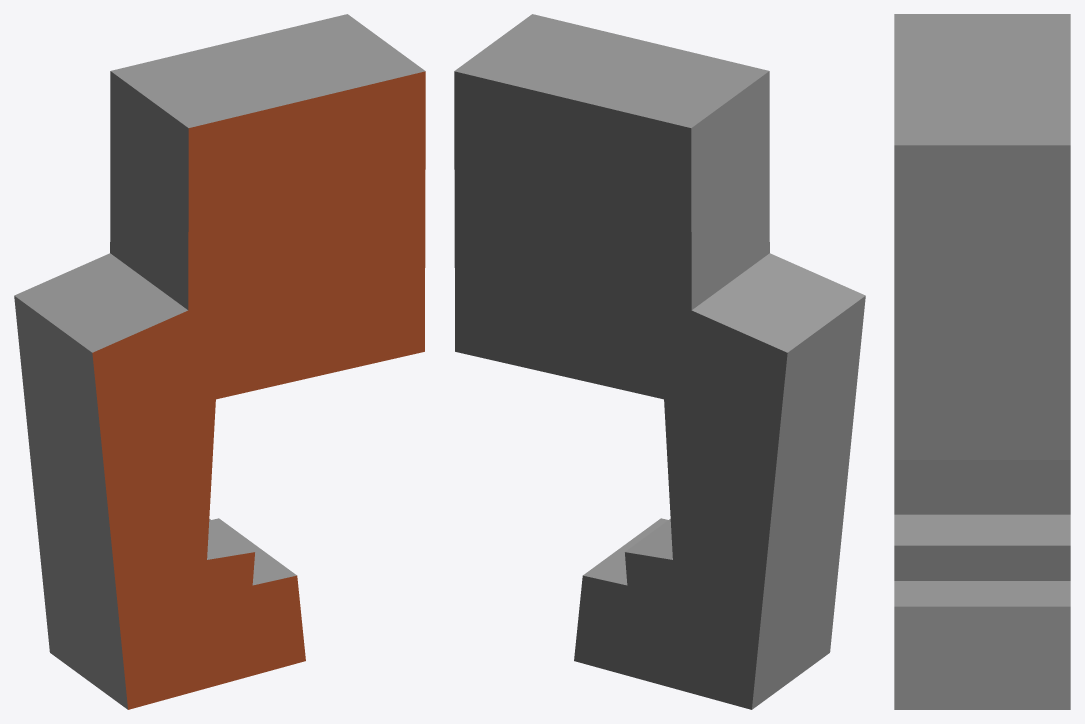
File: construction_6701_assumed_A_Casa_h6m.obj
3 views of the same model, side by side, from view 1: azimuth 30°, elevation 25°; view 2: azimuth 150°, elevation 25°; view 3: azimuth 270°, elevation 25° (orthographic). The views are drawn at different scales.
Parts seen in each view (by area): view 1: construction_6701_assumed_A_Casa; view 2: construction_6701_assumed_A_Casa; view 3: construction_6701_assumed_A_Casa.
Part boxes in pixels (left/top/right/bottom): construction_6701_assumed_A_Casa: left=14, top=14, right=425, bottom=709; construction_6701_assumed_A_Casa: left=454, top=14, right=865, bottom=709; construction_6701_assumed_A_Casa: left=894, top=14, right=1070, bottom=709.
Size of the model in its own units: 14.76 by 23.99 by 6.
